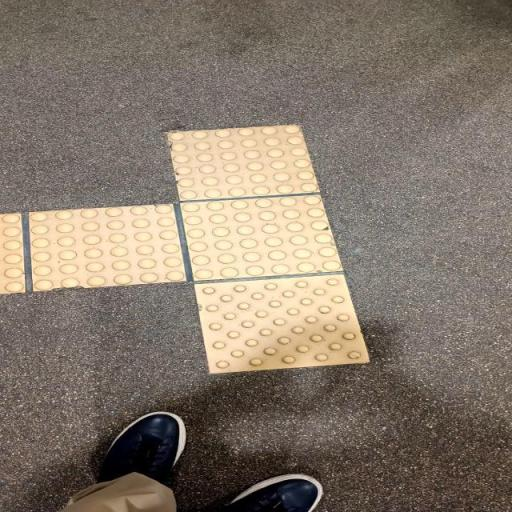dot: (195, 275, 371, 376), (179, 196, 343, 283), (31, 204, 181, 290), (168, 125, 320, 202)
